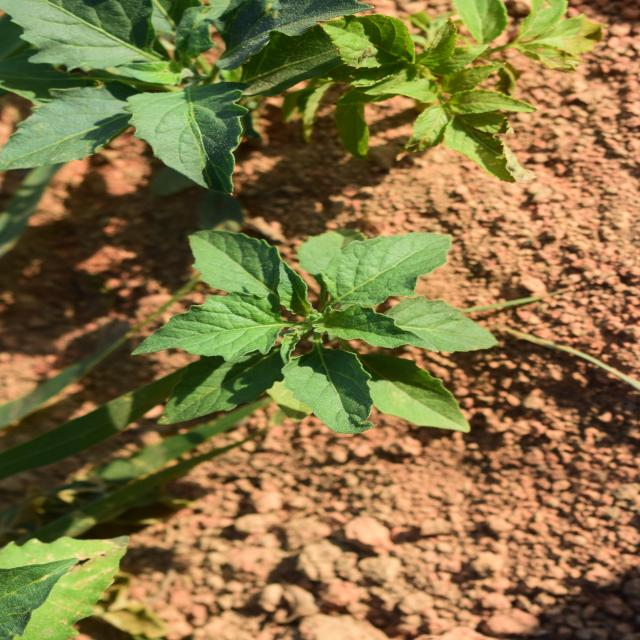Black_nightshade: (209, 147, 435, 485), (451, 0, 637, 337)
